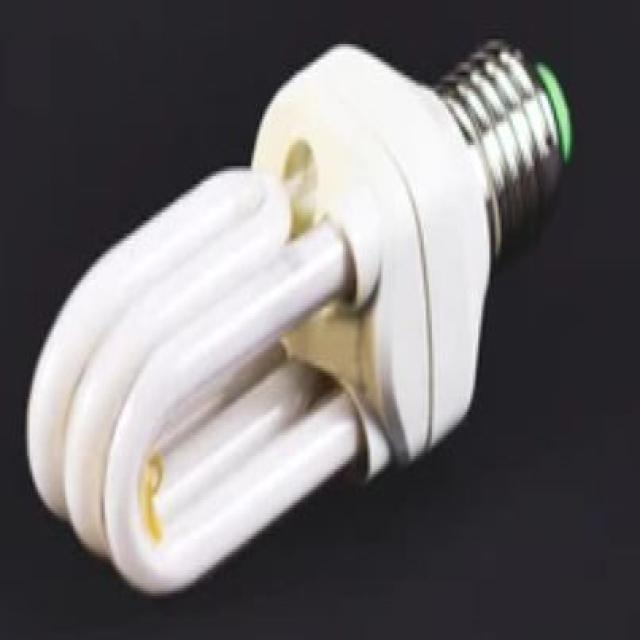electronic: (24, 34, 573, 596)
